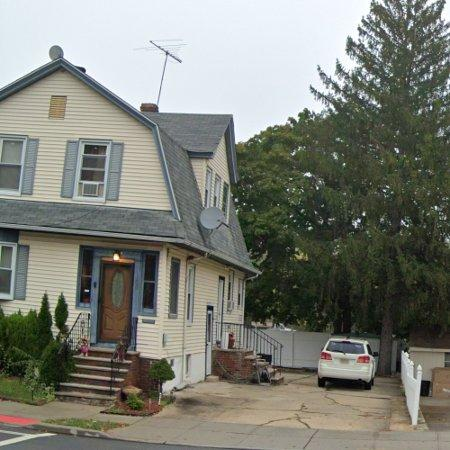stairs: (56, 349, 139, 405), (213, 350, 284, 384)
